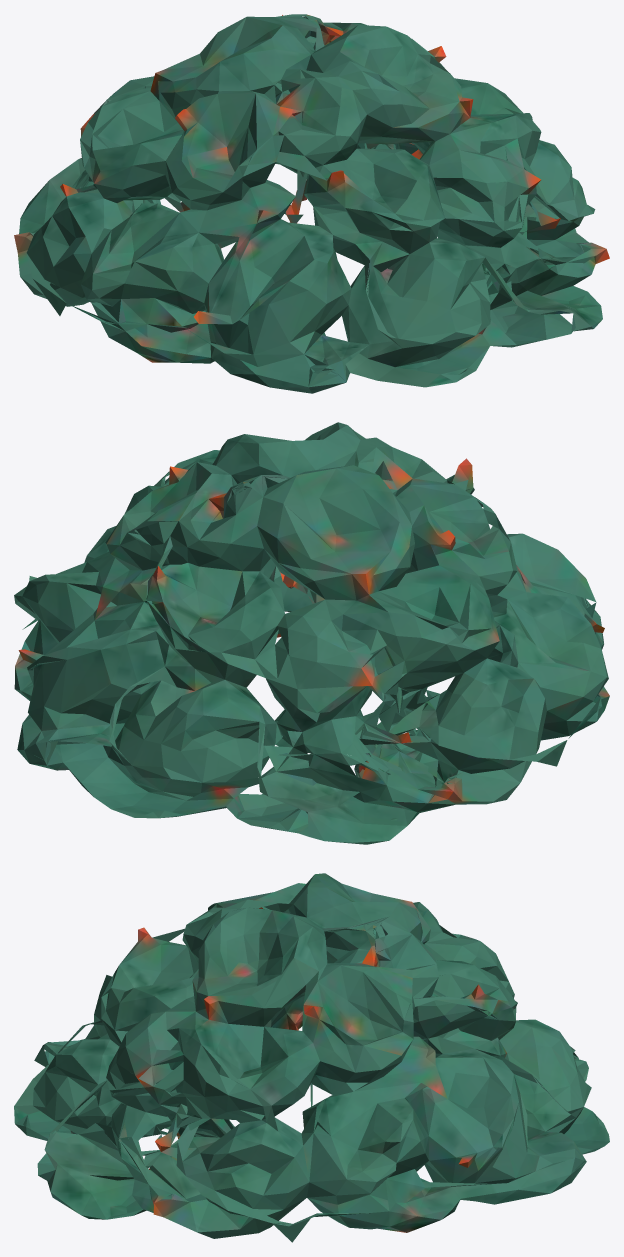
Rendered from nets.glb.
3 views of the same model, one above another, from view 1: azimuth 30°, elevation 25°; view 2: azimuth 150°, elevation 25°; view 3: azimuth 270°, elevation 25° (orthographic). The views are drawn at different scales.
Parts seen in each view (by area): view 1: nets; view 2: nets; view 3: nets.
Part boxes in pixels (x1=…): nets: x1=14, y1=14, x2=609, y2=393; nets: x1=14, y1=422, x2=609, y2=844; nets: x1=14, y1=873, x2=609, y2=1242.
Bounding box in the file's own units: 1.71 × 0.8 × 1.84.
Materials: 1 (1 with a texture image).
